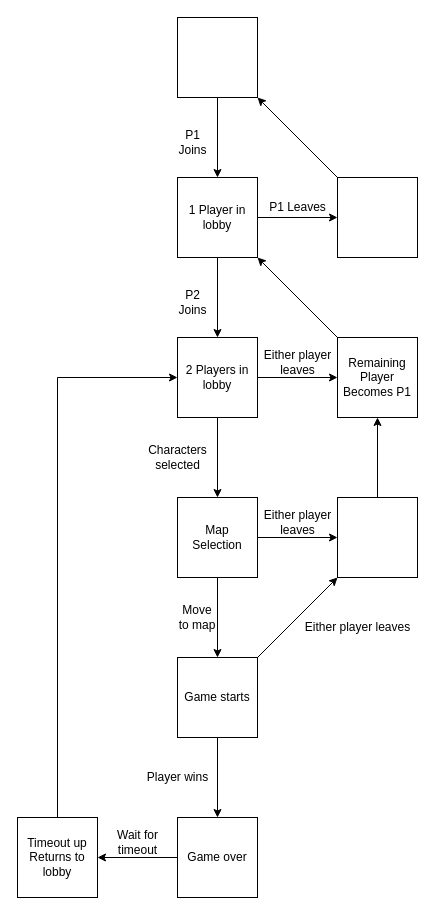
Some shapes in this 435 by 915 pixel diagram are drawn without their labels. Here are the shapes that lost their labels. From the top down, the centre of each, then its label:
At point (217, 57): "Start in character selection, No players".
At point (377, 217): "Reset Lobby".
At point (377, 537): "Move back to lobby".
